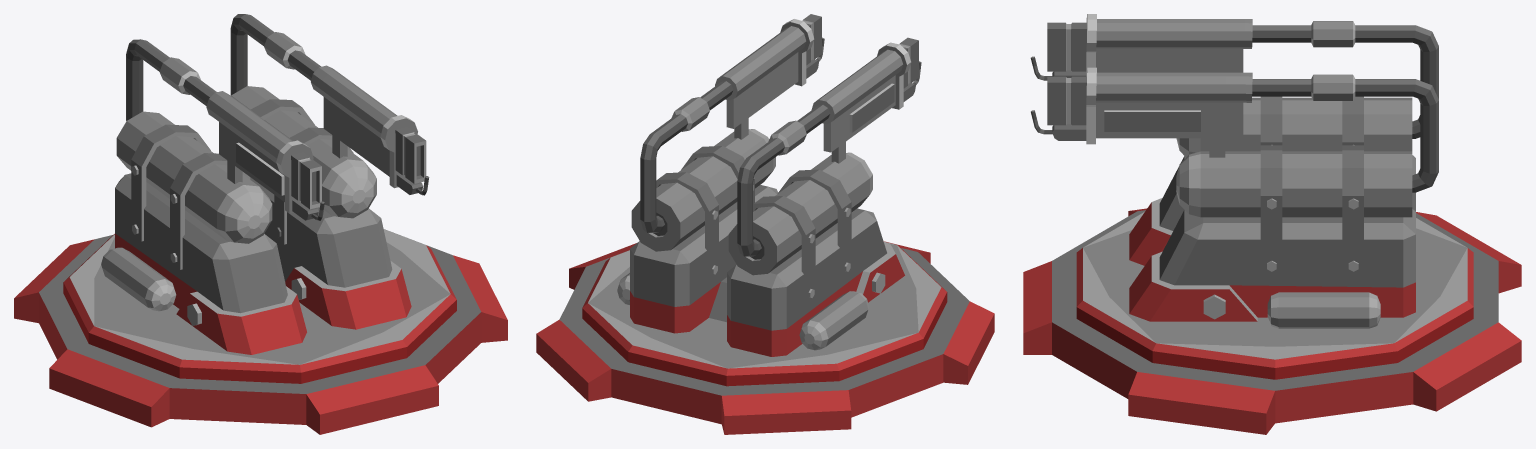
The model's file is tower_napalm_red_2.fbx.
3 views of the same model, side by side, from view 1: azimuth 30°, elevation 25°; view 2: azimuth 150°, elevation 25°; view 3: azimuth 270°, elevation 25° (orthographic). The views are drawn at different scales.
Parts seen in each view (by area): view 1: top_napalm_red_2, tower_napalm_red_2; view 2: top_napalm_red_2, tower_napalm_red_2; view 3: top_napalm_red_2, tower_napalm_red_2.
Boxes of the visible parts, x1,y1,x2,y2 form: top_napalm_red_2: (101,14,429,354); tower_napalm_red_2: (14,229,507,434); top_napalm_red_2: (617,14,921,356); tower_napalm_red_2: (536,241,994,434); top_napalm_red_2: (1030,14,1438,328); tower_napalm_red_2: (1023,208,1521,434).
Size of the model in its own units: 190 by 112 by 181.
